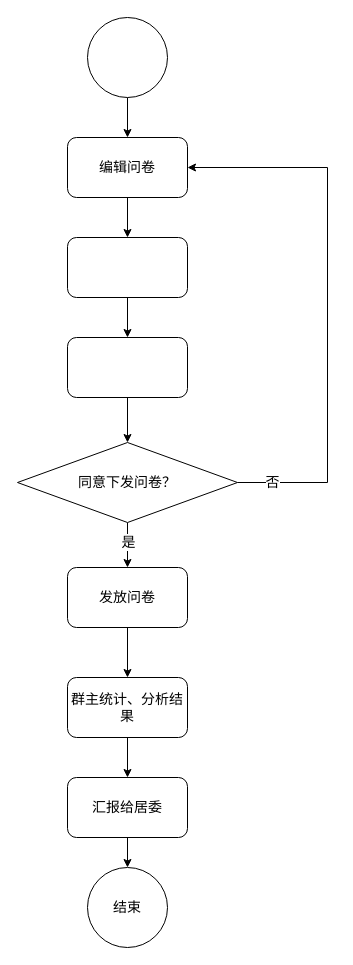
Image size: 353x965. Some labels were removed from this diagram. Here are the shapes that lost their labels. From the top down, the centre of each, then its label:
At [127,57]: "开始".
At [127,267]: "楼组长内测".
At [127,367]: "居委评估".
